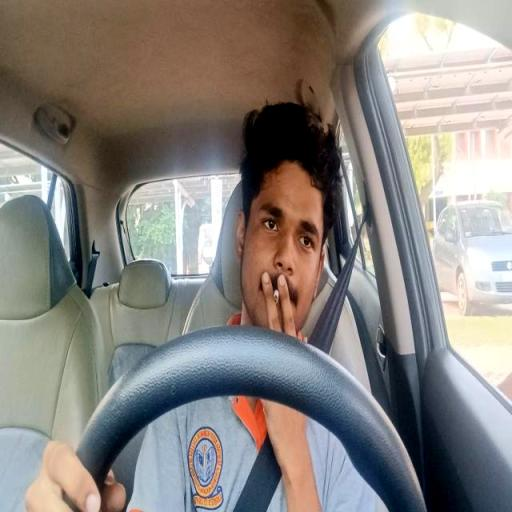Smoking: (16, 89, 432, 512)
